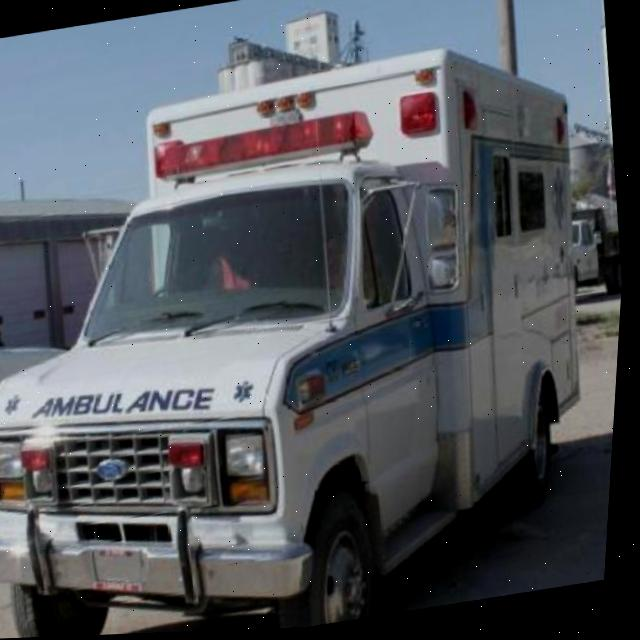emergency: (0, 25, 634, 640)
